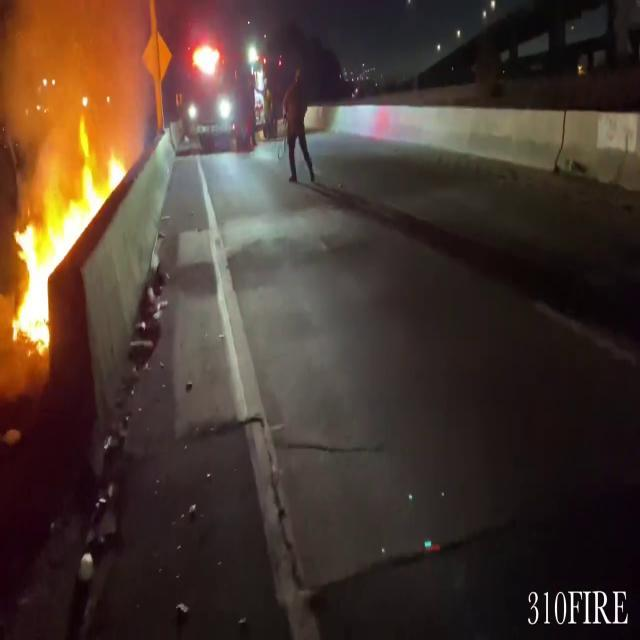Fire: (7, 102, 127, 354)
Smoke: (0, 0, 160, 171)
